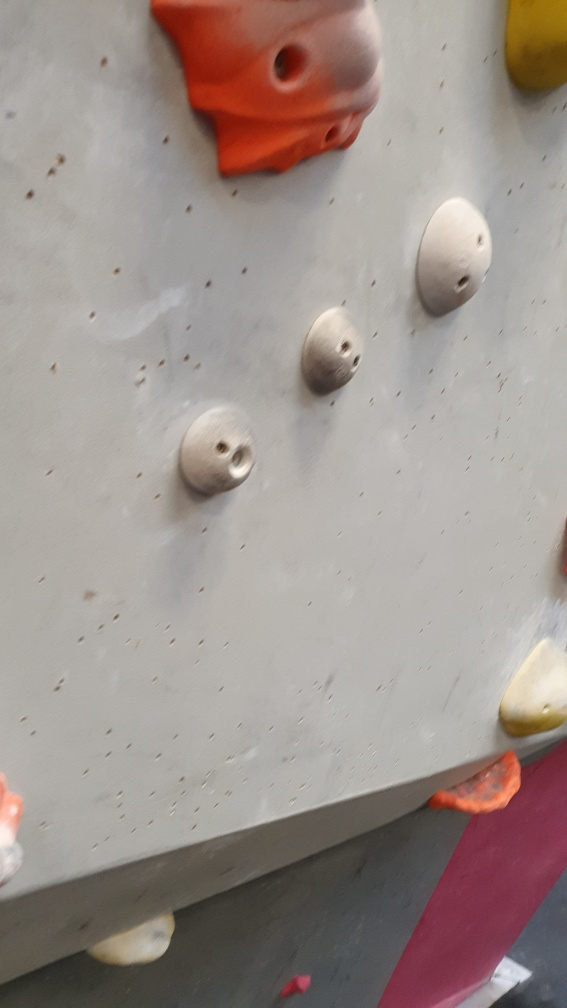Jug: (149, 1, 388, 185), (429, 749, 526, 819)
Sloper: (412, 193, 497, 325), (177, 404, 266, 498), (300, 301, 369, 395)
